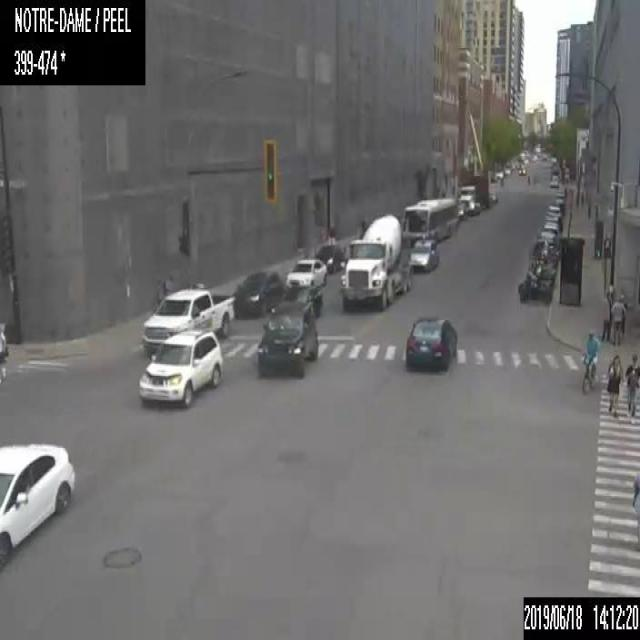bus: (402, 196, 457, 244)
cyclist: (577, 329, 600, 399)
pedestrian: (605, 352, 621, 417), (624, 352, 639, 416), (610, 293, 625, 345), (599, 291, 611, 345), (629, 472, 639, 519), (0, 319, 5, 385), (162, 272, 172, 298), (154, 274, 162, 302), (586, 198, 592, 222), (329, 222, 335, 244), (593, 200, 599, 222), (575, 190, 580, 206), (584, 187, 588, 202), (580, 190, 584, 204), (526, 174, 530, 185), (500, 177, 502, 188)
vehicle: (0, 440, 75, 574), (340, 212, 412, 310), (137, 327, 224, 407), (142, 287, 235, 357), (256, 300, 318, 378), (403, 313, 457, 371), (234, 270, 284, 316), (285, 256, 326, 288), (284, 284, 322, 316), (458, 175, 488, 215), (517, 274, 553, 303), (408, 238, 438, 272), (316, 243, 344, 273), (526, 260, 554, 283), (532, 246, 558, 266), (537, 229, 557, 250), (543, 221, 560, 244), (544, 215, 563, 232), (545, 204, 561, 216), (456, 201, 466, 220), (552, 191, 564, 203), (546, 180, 559, 191), (487, 190, 497, 203), (548, 153, 556, 163), (518, 164, 526, 174)
